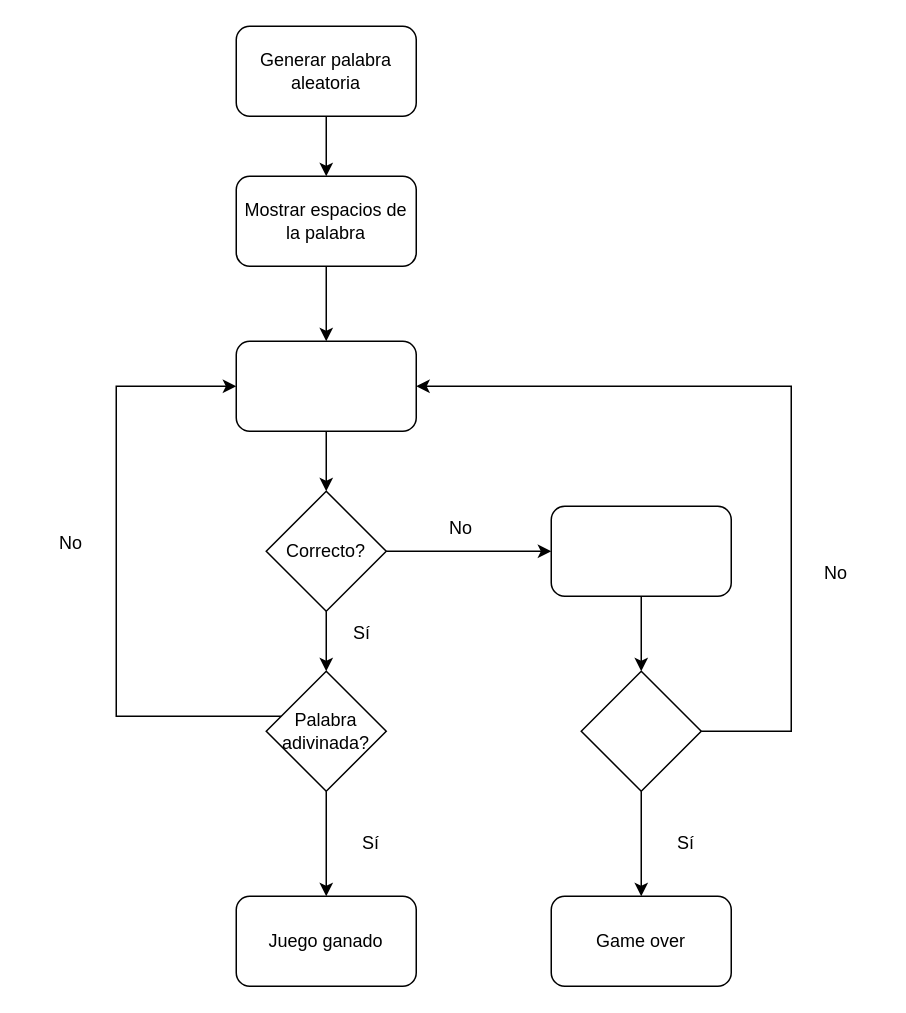
This 906x1013 diagram has some shape labels left out. Here are the shapes that lost their labels. From the top down, the centre of each, then its label:
At point 325,385: "Introducir letra".
At point 640,550: "Añadir fallo (Contador y dibujo)".
At point 640,730: "Muerto?".
